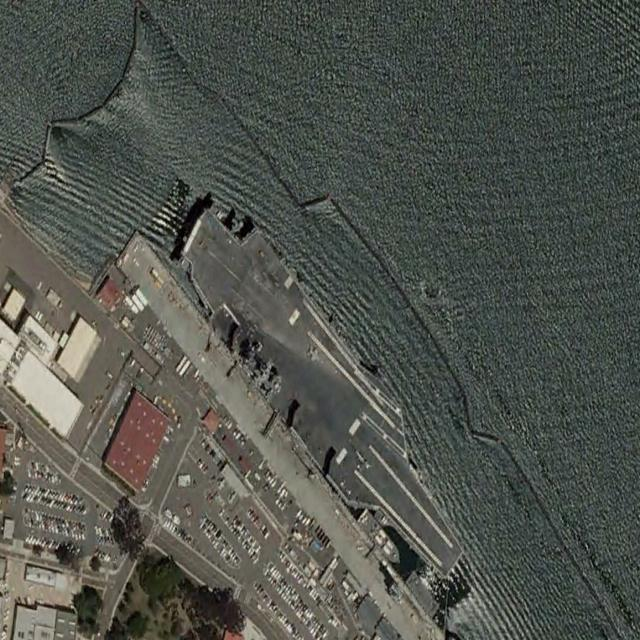Aircraft Carrier: (163, 176, 488, 608)
